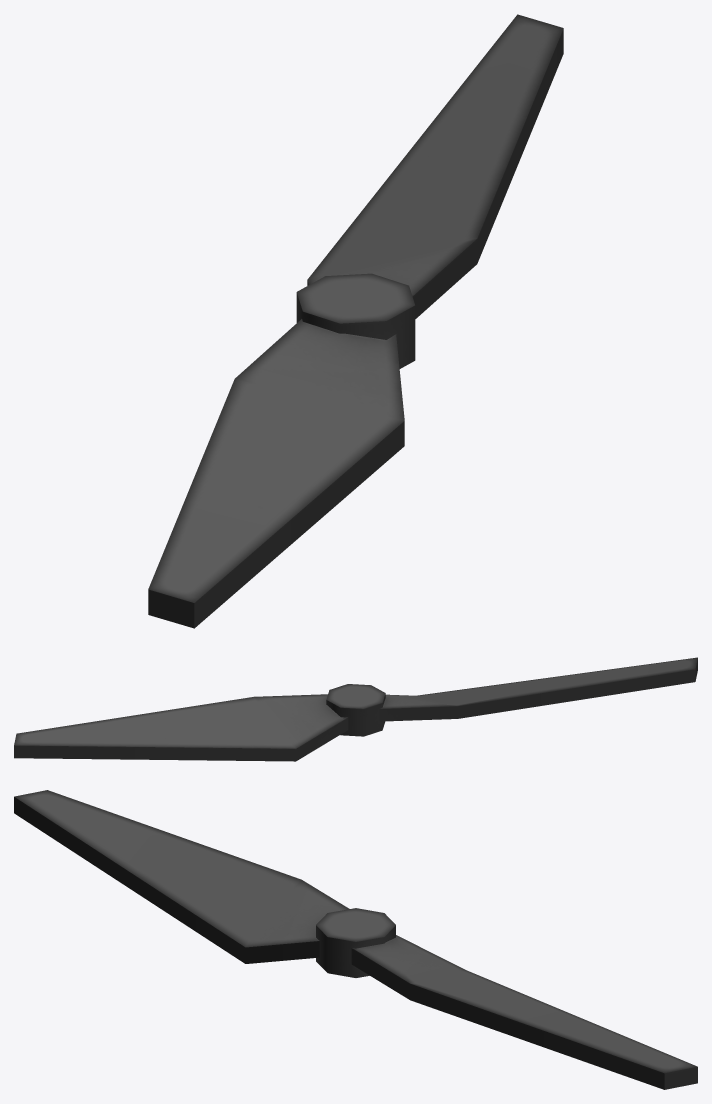
The model's file is wing.fbx.
3 renders of one model, top to bottom at view 1: azimuth 30°, elevation 25°; view 2: azimuth 150°, elevation 25°; view 3: azimuth 270°, elevation 25°, orthographic. The views are drawn at different scales.
Parts seen in each view (by area): view 1: Wing4; view 2: Wing4; view 3: Wing4.
Boxes of the visible parts, x1,y1,x2,y2 form: Wing4: (148, 14, 563, 628); Wing4: (14, 657, 697, 761); Wing4: (14, 790, 697, 1089).
Size of the model in its own units: 0.6628 by 0.0551 by 0.6763.
1 material, 1 textured.
